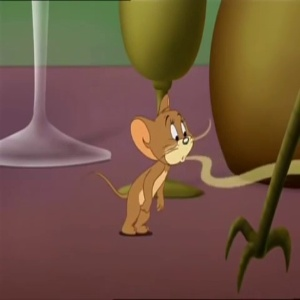Jerry: (130, 91, 198, 168)
